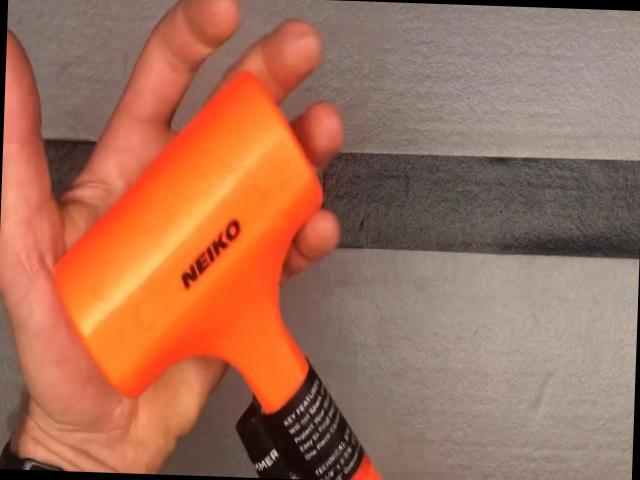hammer: (42, 65, 401, 480)
